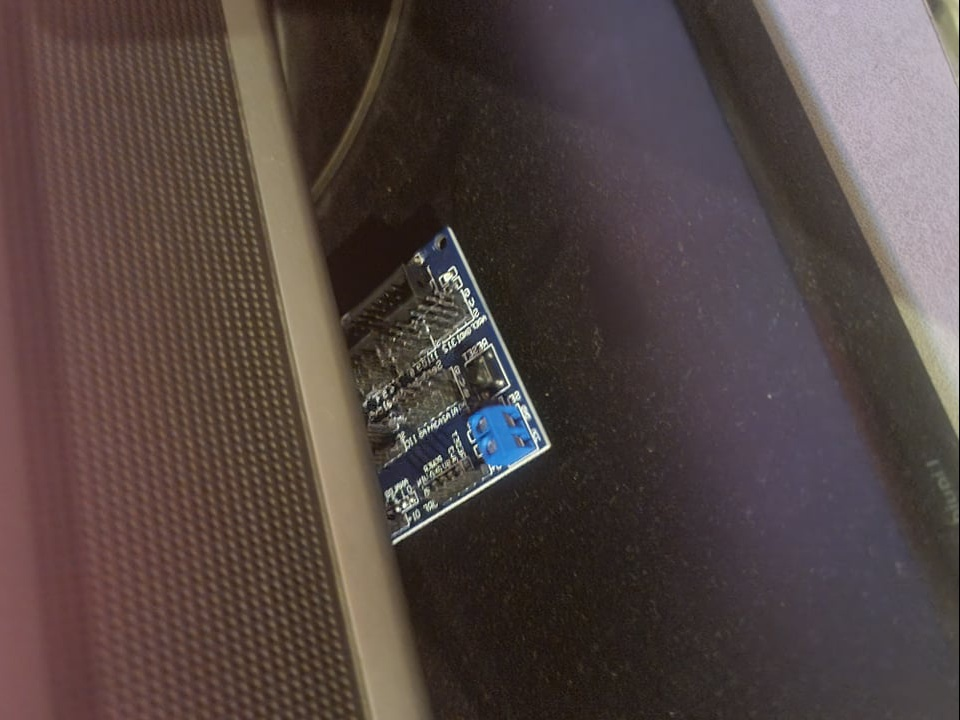5V EXPANSION: (320, 228, 553, 549)
